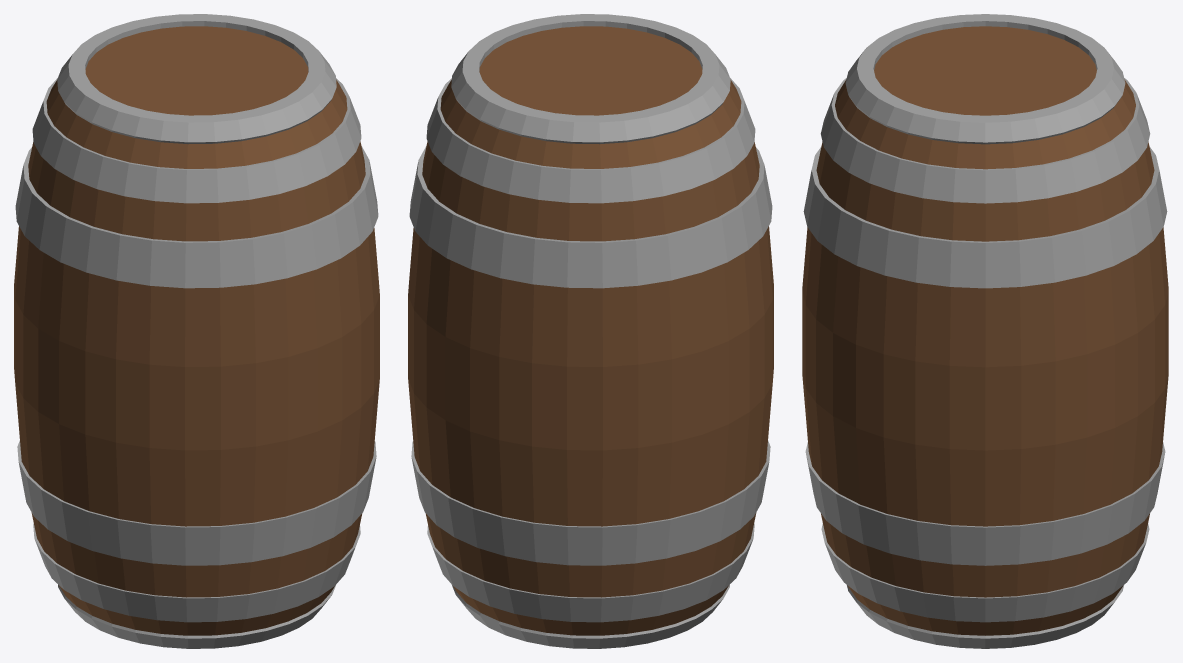
File: Tønde.glb
The picture shows the model from 3 angles, left to right: view 1: azimuth 30°, elevation 25°; view 2: azimuth 150°, elevation 25°; view 3: azimuth 270°, elevation 25°; orthographic projection.
Parts seen in each view (by area): view 1: Cylinder; view 2: Cylinder; view 3: Cylinder.
Boxes of the visible parts, x1,y1,x2,y2 form: Cylinder: [14, 14, 379, 648]; Cylinder: [408, 14, 773, 648]; Cylinder: [802, 14, 1168, 648].
Bounding box in the file's own units: 3 × 4.74 × 3.
